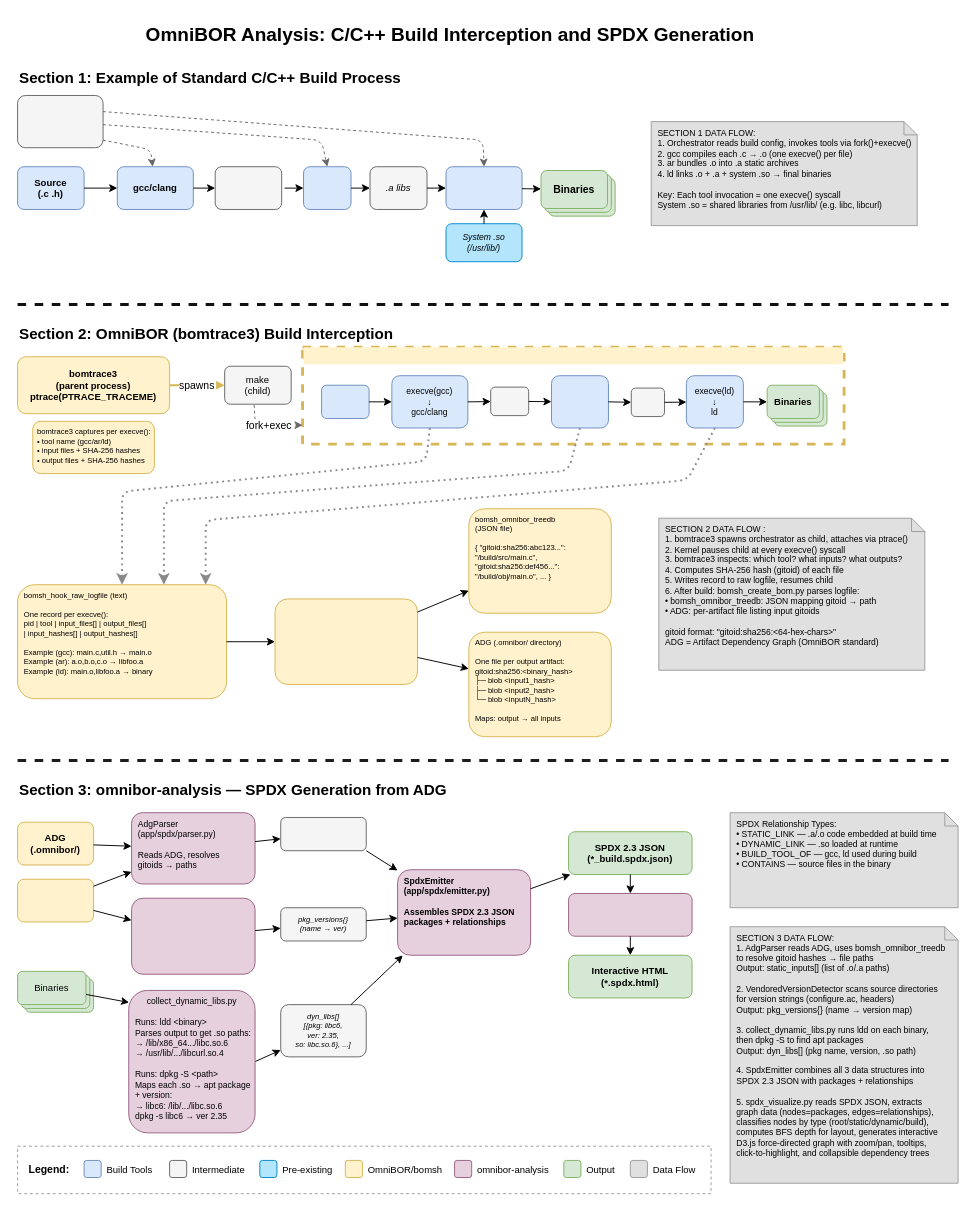
This 975x1210 diagram has some shape labels left out. The box of each missing label's shape, as (x1, y1, x2, y2) in pixels:
.a: (630, 387, 665, 417)
.c .h: (321, 384, 369, 418)
.o: (490, 386, 529, 416)
.o files: (214, 166, 282, 209)
ar: (303, 166, 351, 209)
bomsh_create_bom.py (Python script) Parses raw logfile, builds dependency graph: (274, 598, 418, 684)
bomsh_omnibor _treedb: (17, 878, 94, 922)
bomtrace3 intercepts each execve() syscall via ptrace(): (303, 347, 843, 364)
execve(ar) ↓ ar: (551, 375, 608, 428)
ld (linker): (445, 166, 522, 209)
make / cmake ninja / meson (orchestrator): (17, 95, 103, 148)
spdx_visualize.py (D3.js generator): (568, 893, 692, 936)
static_inputs[] (paths to .o/.a): (280, 817, 366, 851)
VendoredVersionDetector (12 strategies) Scans source for version strings: (131, 897, 255, 974)
